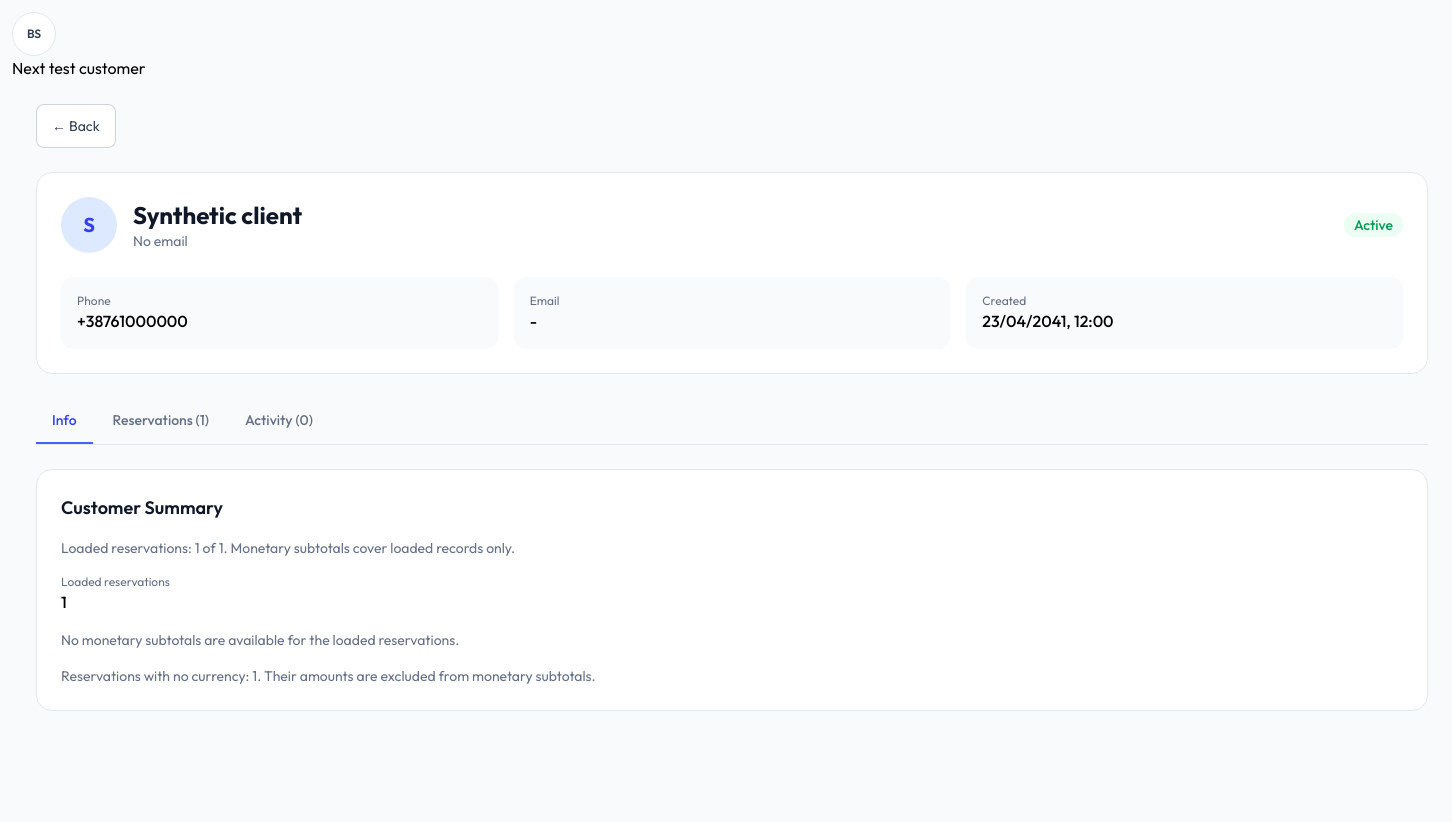
Test: does not assign BAM to missing currency or aggregate unknown money
Check: the heading "Synthetic client" is shown, box [133,199,302,231]
Check: the text "Reservations with no currency: 1. Their amounts are excluded from monetary subtotals." is shown, box [61,667,596,685]
Click the button "Reservations (1)" at {"x": 161, "y": 421}, box [97,398,225,444]
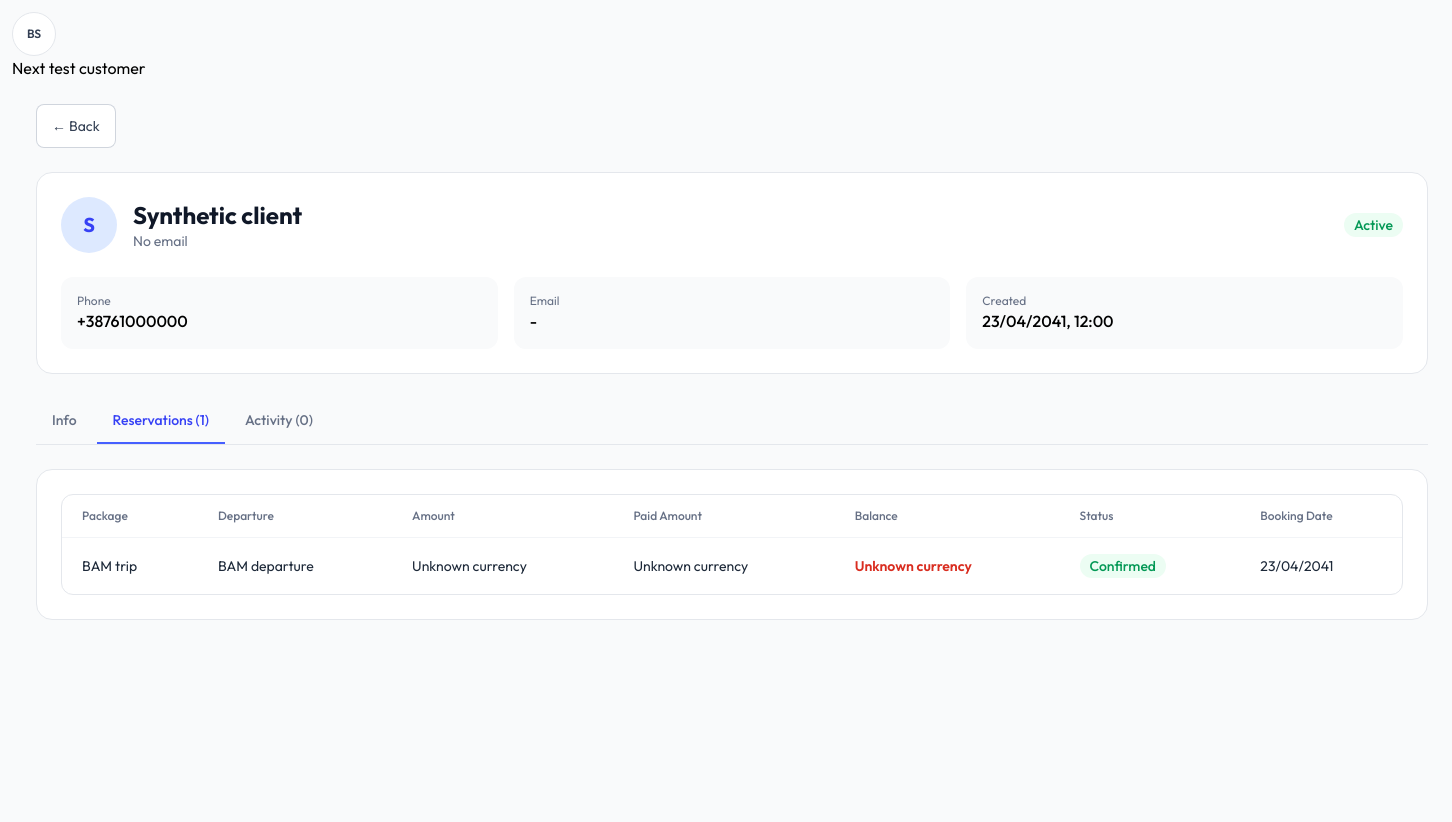
Check: the 1st text "Unknown currency" is shown, box [392,538,613,594]
